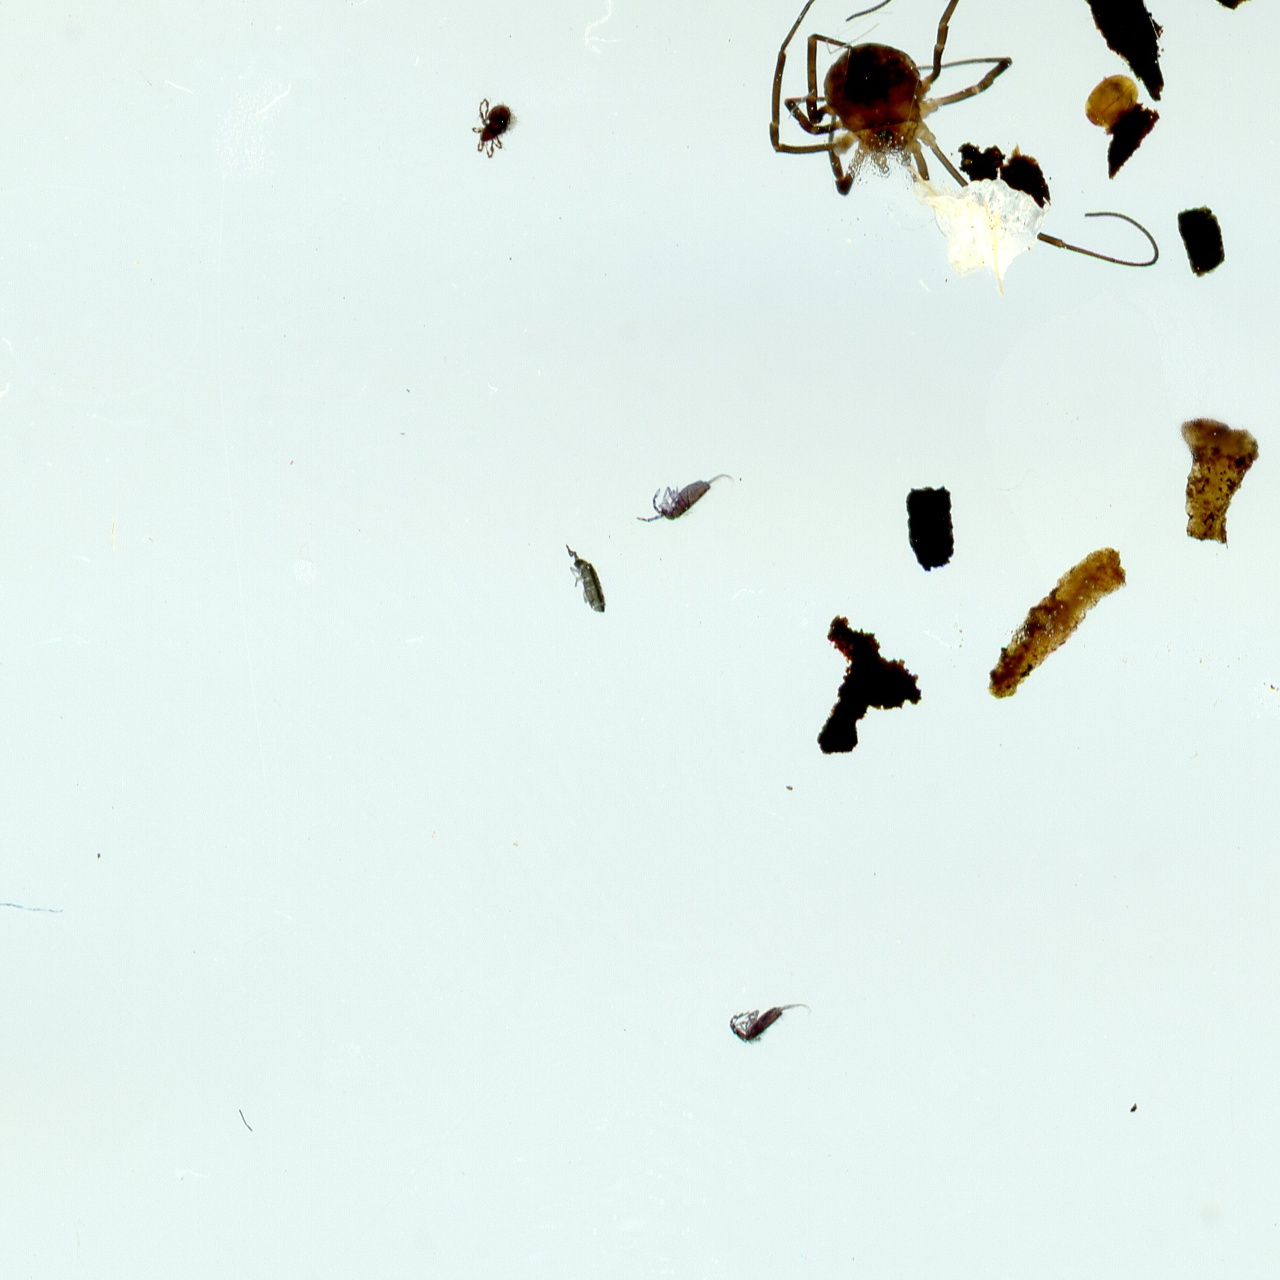arthropod: (764, 0, 1163, 273), (634, 472, 736, 527), (1079, 65, 1143, 144), (563, 542, 610, 618), (729, 1003, 812, 1046), (471, 98, 522, 161)
